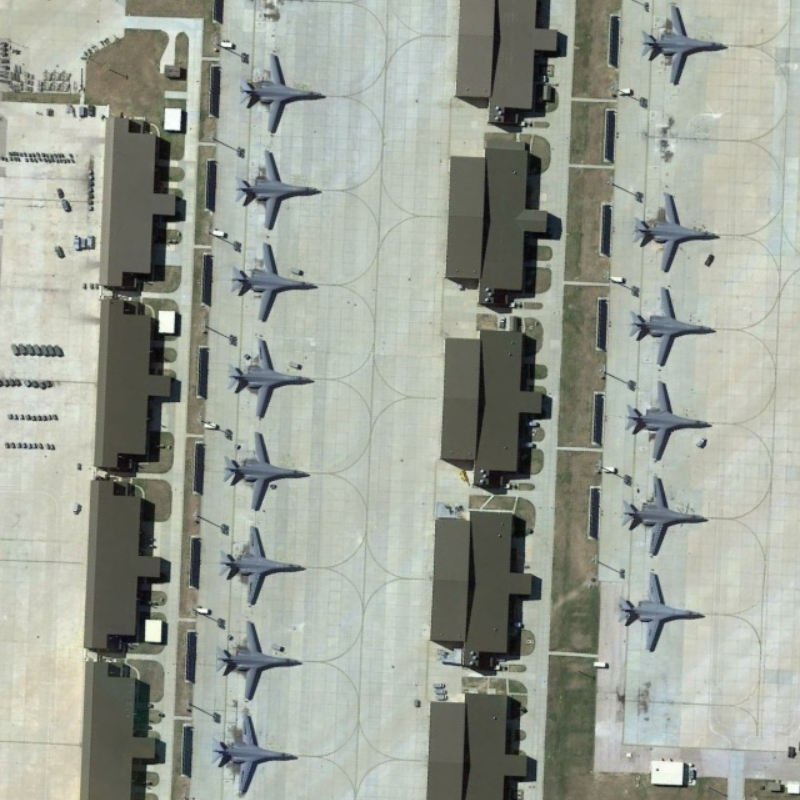A10: (609, 567, 716, 657), (207, 701, 301, 800), (619, 374, 714, 466), (212, 615, 310, 704), (617, 472, 715, 561), (212, 522, 312, 609), (631, 187, 721, 278), (220, 425, 312, 514), (624, 283, 722, 366), (636, 1, 726, 91), (242, 42, 323, 140), (227, 333, 314, 422), (228, 239, 319, 324), (237, 146, 323, 234)
